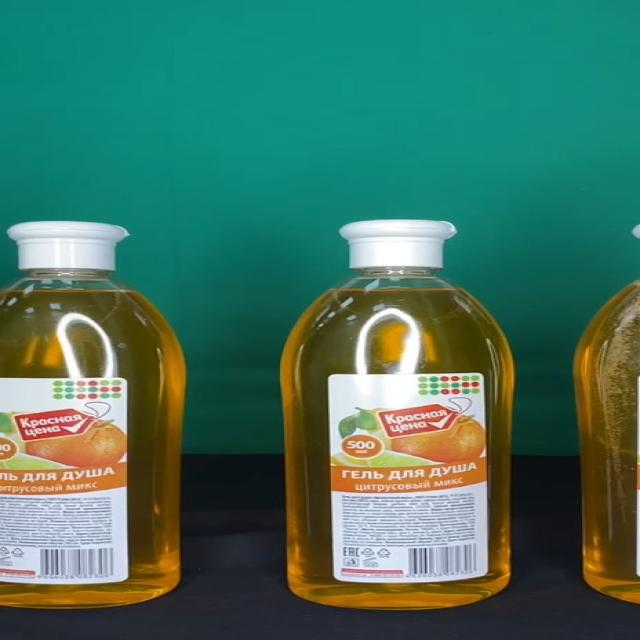Bottle: (280, 220, 513, 610), (0, 221, 187, 609)
Cap: (6, 222, 132, 270), (337, 220, 457, 268)
